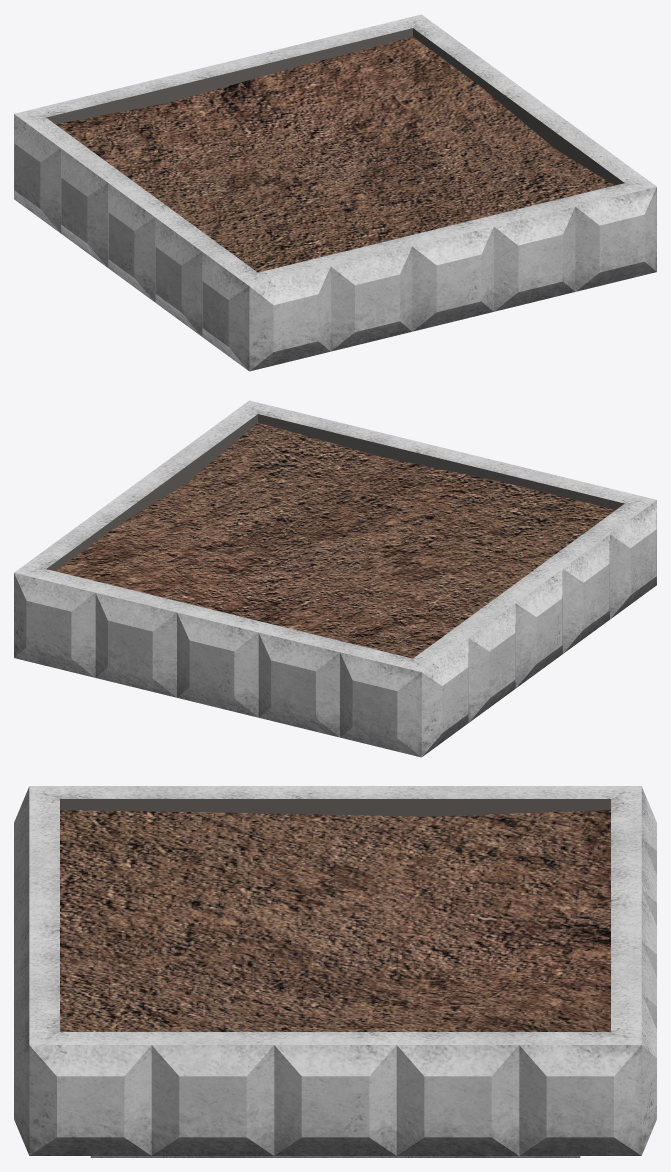
Rendered from FlowerBed.fbx.
3 views of the same model, one above another, from view 1: azimuth 30°, elevation 25°; view 2: azimuth 150°, elevation 25°; view 3: azimuth 270°, elevation 25° (orthographic). The views are drawn at different scales.
Visible parts, largest first — view 1: flowerbed; view 2: flowerbed; view 3: flowerbed.
Part boxes in pixels (bbox=[...]): flowerbed: bbox=[14, 14, 656, 371]; flowerbed: bbox=[14, 400, 656, 757]; flowerbed: bbox=[14, 786, 656, 1157].
Size of the model in its own units: 420 by 100 by 420.
